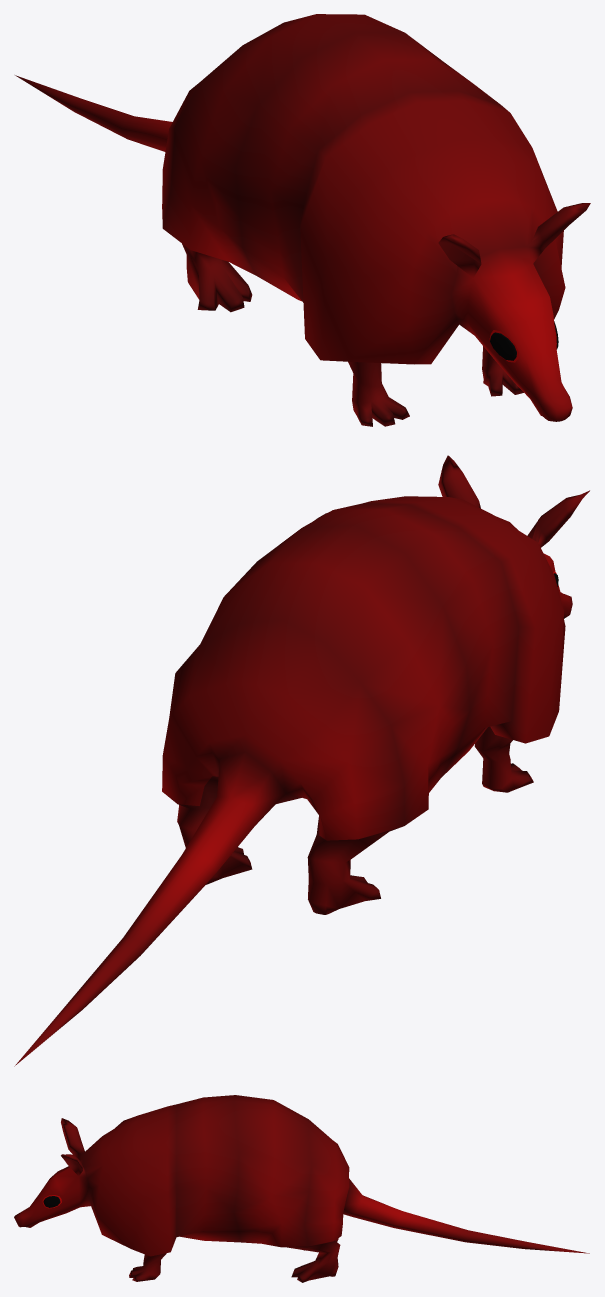
The model's file is Animals_Armadillo.fbx.
3 views of the same model, one above another, from view 1: azimuth 30°, elevation 25°; view 2: azimuth 150°, elevation 25°; view 3: azimuth 270°, elevation 25° (orthographic). The views are drawn at different scales.
Visible parts, largest first — view 1: base; view 2: base; view 3: base.
Boxes of the visible parts, <box> form: base: <box>15,14,590,426</box>; base: <box>14,455,589,1066</box>; base: <box>14,1095,589,1282</box>.
Bounding box in the file's own units: 44.8 × 53.8 × 177.
